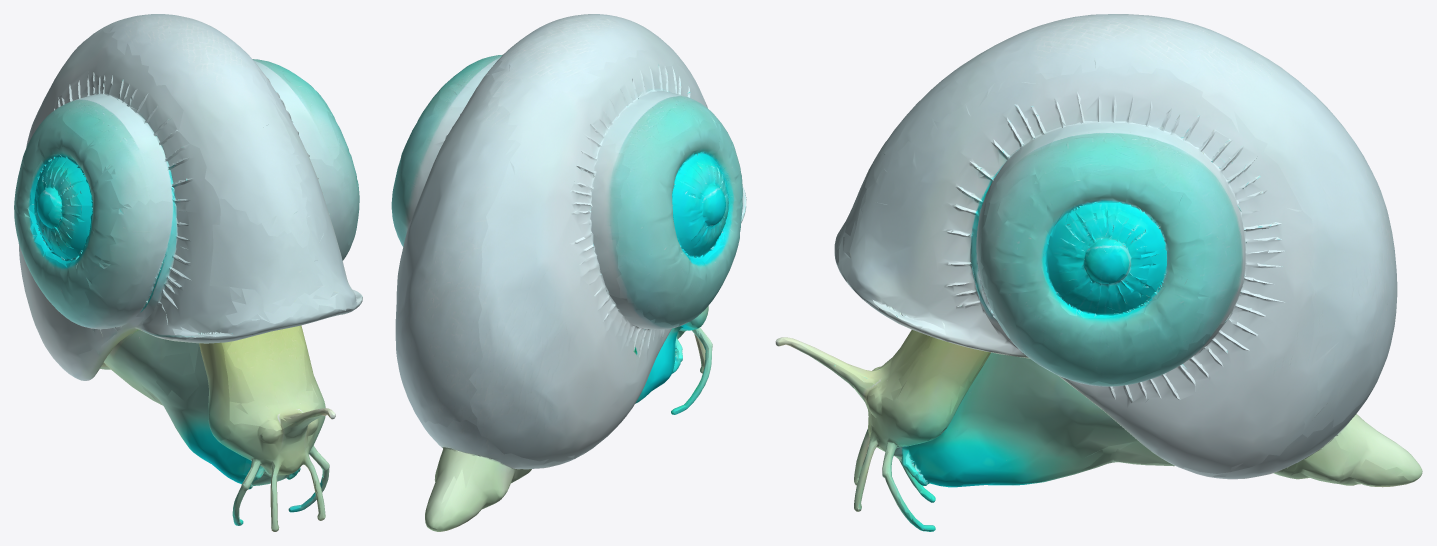
File: glass_snail.glb
3 views of the same model, side by side, from view 1: azimuth 30°, elevation 25°; view 2: azimuth 150°, elevation 25°; view 3: azimuth 270°, elevation 25° (orthographic). The views are drawn at different scales.
Size of the model in its own units: 1.17 by 1.6 by 1.9.
Materials: 1 (1 with a texture image).
